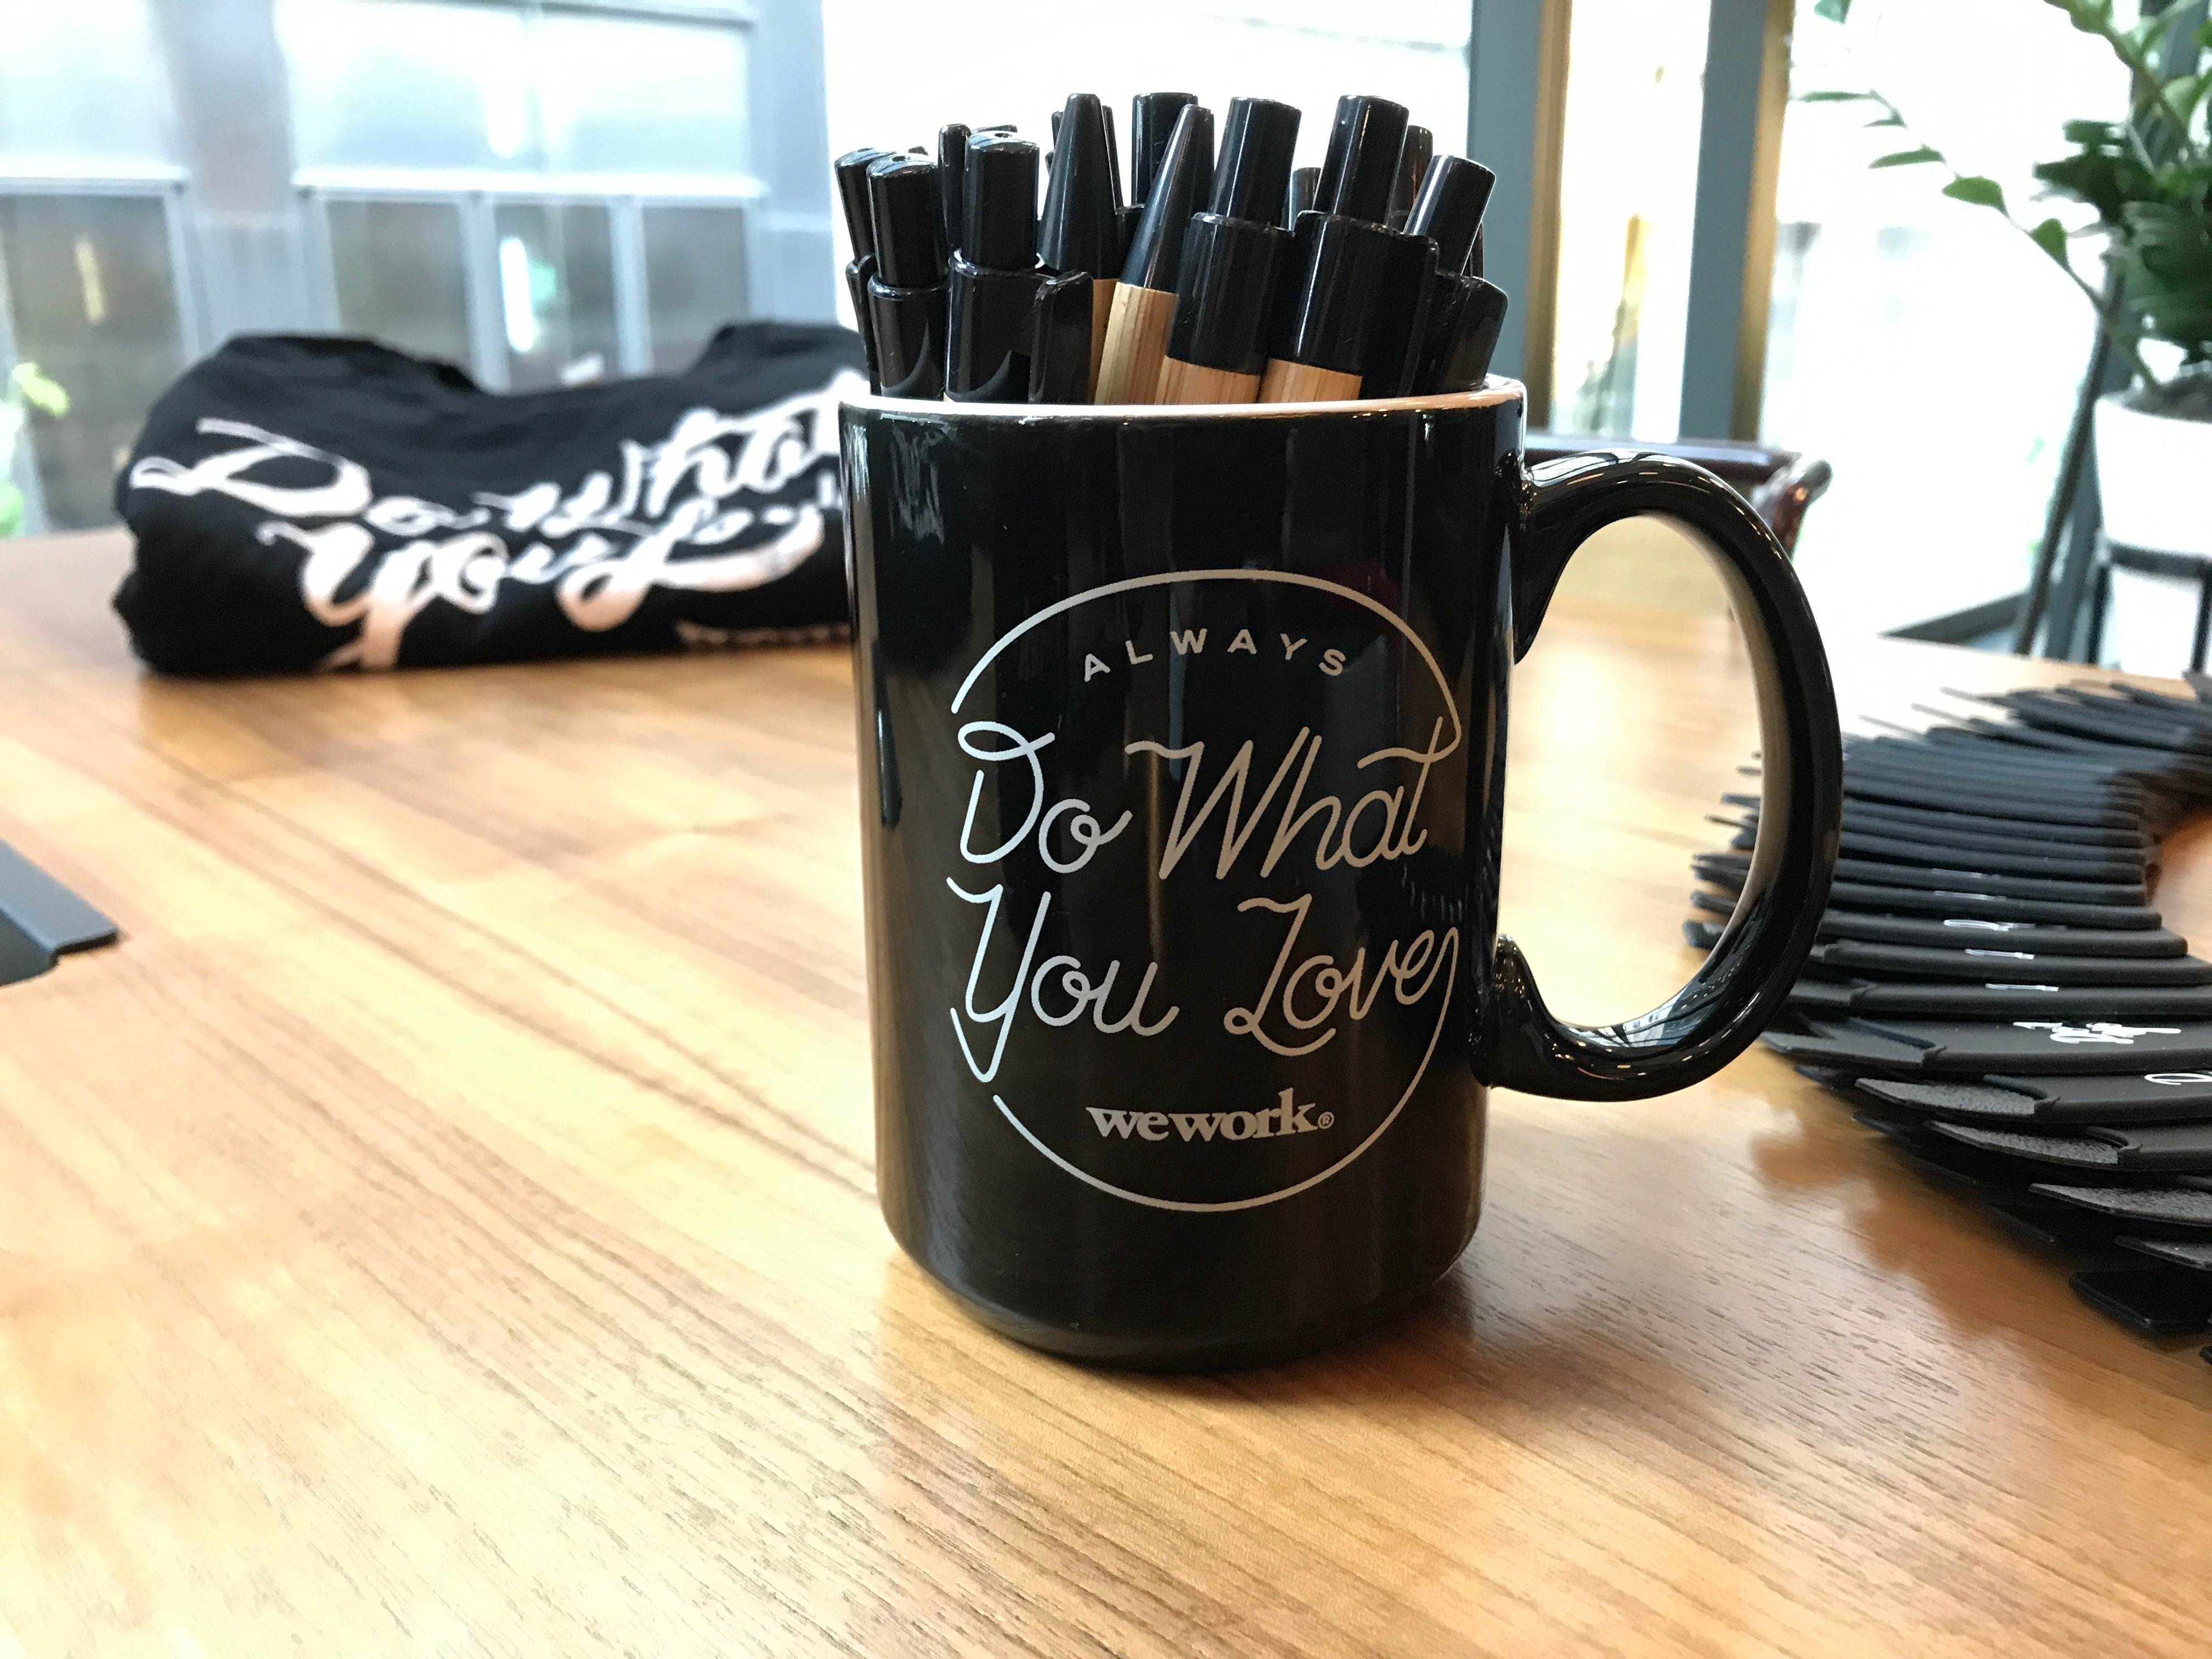wework: (1080, 1079, 1320, 1145)
